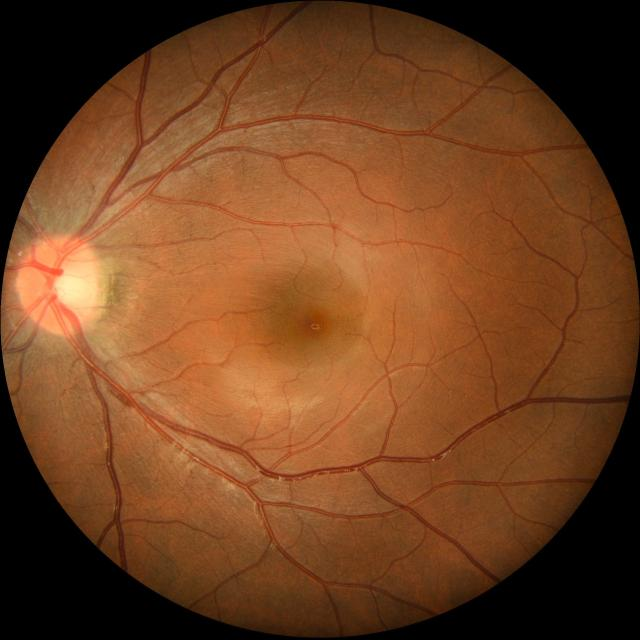OC: (52, 261, 94, 313)
OD: (18, 233, 101, 335)
